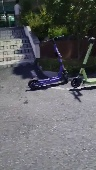beam: (25, 34, 72, 90)
gcooter: (70, 35, 96, 88)
